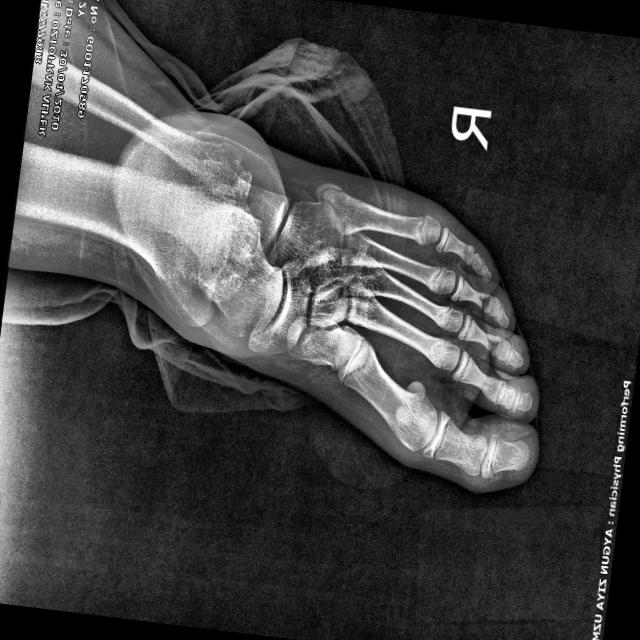Fracture: (335, 334, 374, 408)
